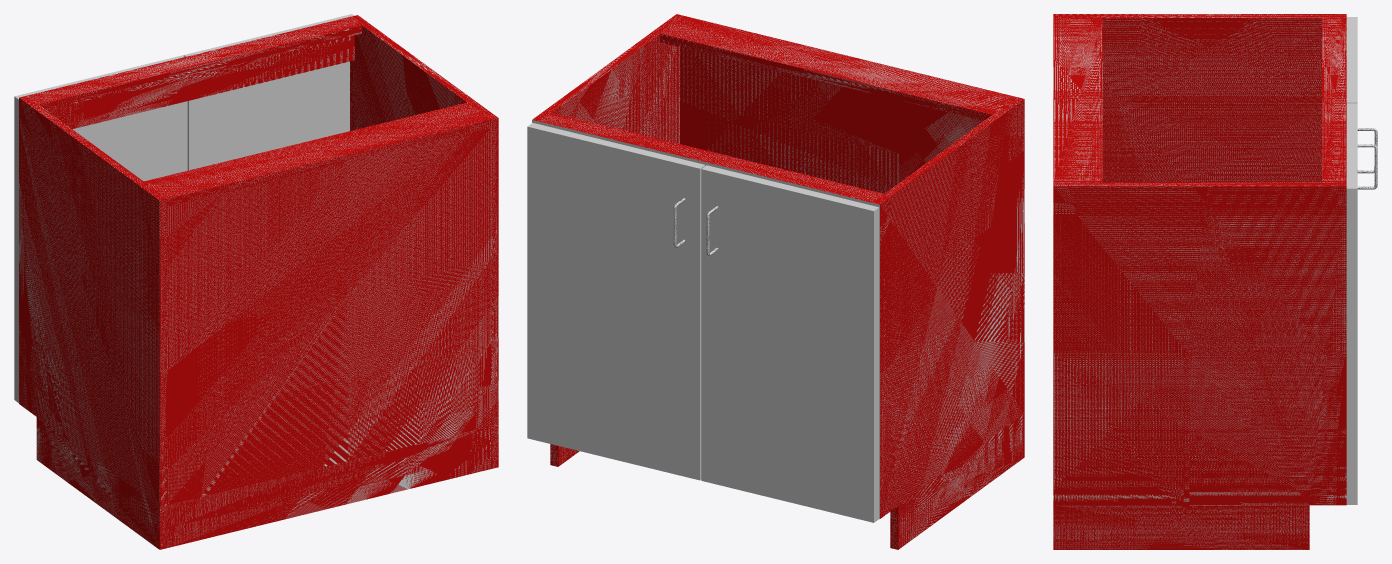
3 views of the same model, side by side, from view 1: azimuth 30°, elevation 25°; view 2: azimuth 150°, elevation 25°; view 3: azimuth 270°, elevation 25° (orthographic). The views are drawn at different scales.
Visible parts, largest first — view 1: mesh5_mesh5-geometry, mesh6_mesh6-geometry, mesh26_mesh26-geometry, mesh12_mesh12-geometry, mesh4_mesh4-geometry, mesh10_mesh10-geometry, mesh17_mesh17-geometry, mesh1_mesh1-geometry, mesh2_mesh2-geometry, mesh24_mesh24-geometry, mesh7_mesh7-geometry; view 2: mesh17_mesh17-geometry, mesh12_mesh12-geometry, mesh6_mesh6-geometry, mesh5_mesh5-geometry, mesh4_mesh4-geometry, mesh10_mesh10-geometry, mesh24_mesh24-geometry, mesh2_mesh2-geometry, mesh7_mesh7-geometry; view 3: mesh9_mesh9-geometry, mesh7_mesh7-geometry, mesh22_mesh22-geometry, mesh4_mesh4-geometry, mesh12_mesh12-geometry, mesh2_mesh2-geometry, mesh10_mesh10-geometry, mesh17_mesh17-geometry.
Boxes of the visible parts, x1=… form: mesh5_mesh5-geometry: x1=167, y1=128, x2=490, y2=504; mesh6_mesh6-geometry: x1=19, y1=98, x2=159, y2=506; mesh26_mesh26-geometry: x1=167, y1=426, x2=490, y2=547; mesh12_mesh12-geometry: x1=183, y1=14, x2=353, y2=170; mesh4_mesh4-geometry: x1=144, y1=102, x2=490, y2=206; mesh10_mesh10-geometry: x1=350, y1=15, x2=498, y2=425; mesh17_mesh17-geometry: x1=14, y1=55, x2=187, y2=402; mesh1_mesh1-geometry: x1=47, y1=35, x2=354, y2=128; mesh2_mesh2-geometry: x1=27, y1=17, x2=361, y2=110; mesh24_mesh24-geometry: x1=36, y1=417, x2=159, y2=549; mesh7_mesh7-geometry: x1=19, y1=96, x2=167, y2=506; mesh17_mesh17-geometry: x1=701, y1=165, x2=879, y2=522; mesh12_mesh12-geometry: x1=527, y1=123, x2=705, y2=480; mesh6_mesh6-geometry: x1=880, y1=99, x2=1024, y2=518; mesh5_mesh5-geometry: x1=680, y1=47, x2=983, y2=193; mesh4_mesh4-geometry: x1=660, y1=16, x2=1015, y2=120; mesh10_mesh10-geometry: x1=532, y1=14, x2=683, y2=143; mesh24_mesh24-geometry: x1=898, y1=413, x2=1024, y2=549; mesh2_mesh2-geometry: x1=540, y1=113, x2=883, y2=205; mesh7_mesh7-geometry: x1=872, y1=97, x2=1023, y2=518; mesh9_mesh9-geometry: x1=1053, y1=186, x2=1346, y2=505; mesh7_mesh7-geometry: x1=1053, y1=14, x2=1346, y2=182; mesh22_mesh22-geometry: x1=1053, y1=505, x2=1309, y2=549; mesh4_mesh4-geometry: x1=1053, y1=18, x2=1102, y2=182; mesh12_mesh12-geometry: x1=1346, y1=103, x2=1357, y2=504; mesh2_mesh2-geometry: x1=1322, y1=18, x2=1346, y2=182; mesh10_mesh10-geometry: x1=1053, y1=182, x2=1346, y2=186; mesh17_mesh17-geometry: x1=1346, y1=17, x2=1357, y2=103.
Bounding box in the file's own units: 0.6199 × 0.6105 × 0.4931.
